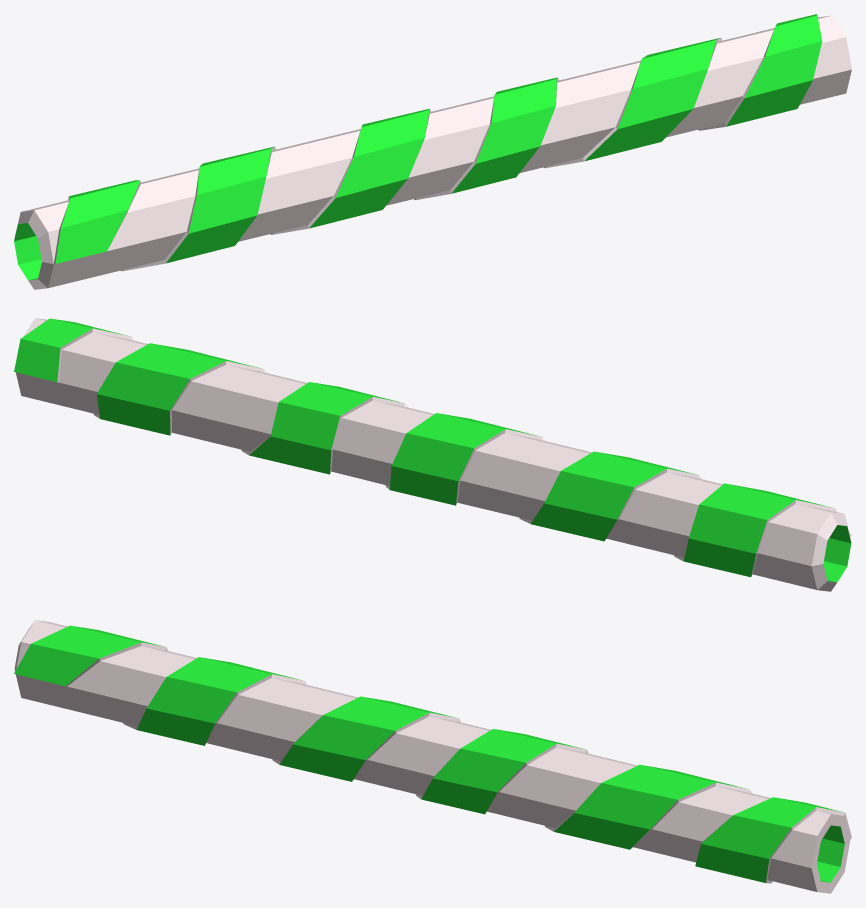
File: stick-o green.fbx
3 renders of one model, top to bottom at view 1: azimuth 30°, elevation 25°; view 2: azimuth 150°, elevation 25°; view 3: azimuth 330°, elevation 25°, orthographic.
Parts seen in each view (by area): view 1: Cylinder.001; view 2: Cylinder.001; view 3: Cylinder.001.
Boxes of the visible parts, bbox=[...] form: Cylinder.001: bbox=[14, 14, 851, 289]; Cylinder.001: bbox=[14, 318, 851, 591]; Cylinder.001: bbox=[14, 620, 851, 893].
Size of the model in its own units: 3.65 by 0.3776 by 0.3326.
